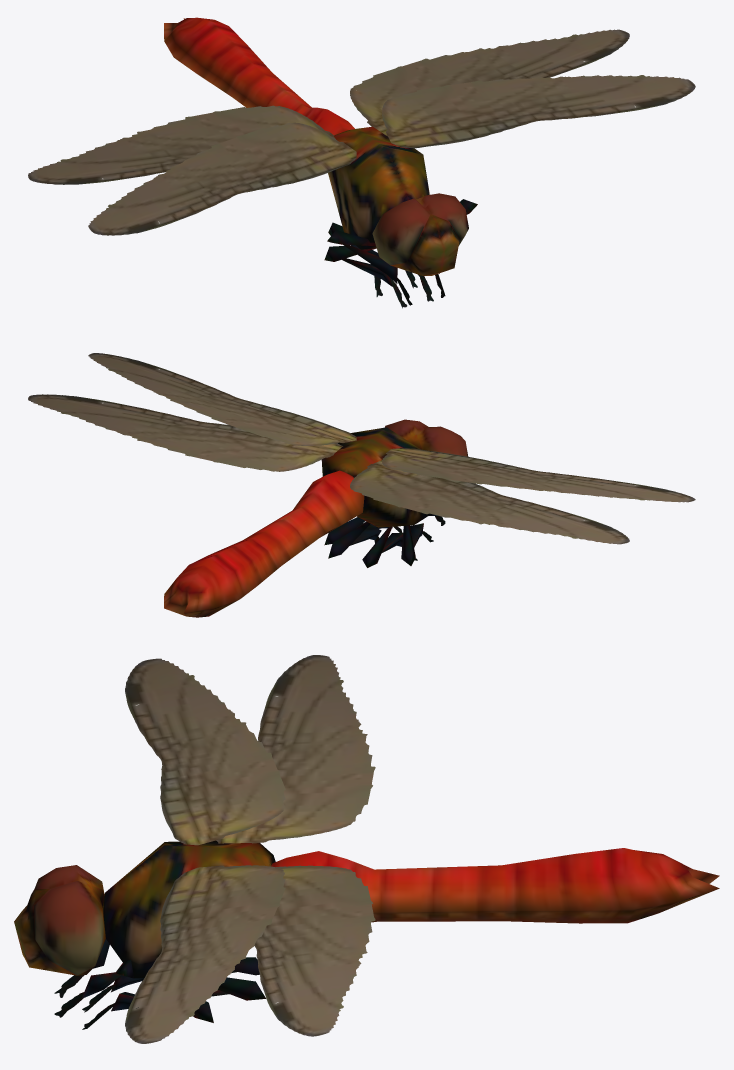
File: red-dragonfly.glb
The picture shows the model from 3 angles, top to bottom: view 1: azimuth 30°, elevation 25°; view 2: azimuth 150°, elevation 25°; view 3: azimuth 270°, elevation 25°; orthographic projection. The views are drawn at different scales.
Size of the model in its own units: 4.21 by 0.9568 by 3.12.
2 materials, 2 textured.
